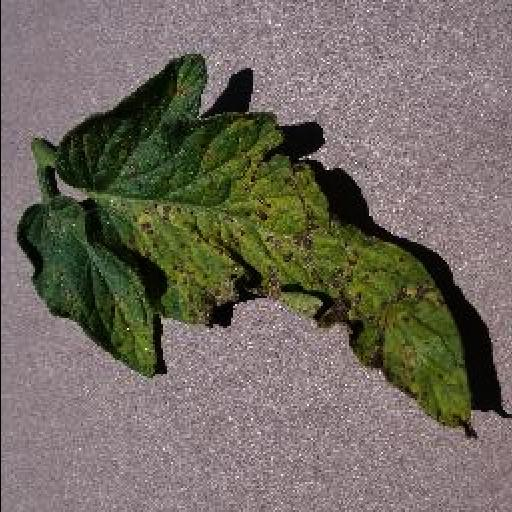disease_tomato: (20, 52, 478, 430)
